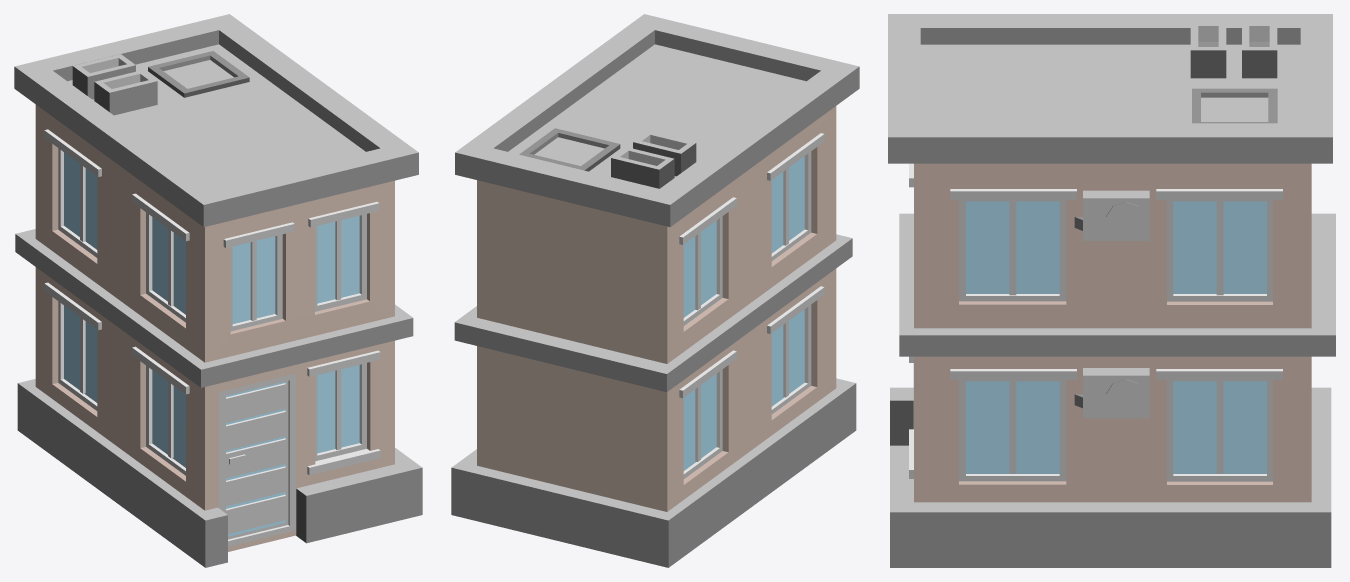
Rendered from house_small_1_007.glb.
The picture shows the model from 3 angles, left to right: view 1: azimuth 30°, elevation 25°; view 2: azimuth 150°, elevation 25°; view 3: azimuth 270°, elevation 25°; orthographic projection. The views are drawn at different scales.
Parts seen in each view (by area): view 1: house_small_1_007; view 2: house_small_1_007; view 3: house_small_1_007.
Part boxes in pixels (left/top/right/bottom): house_small_1_007: left=14, top=14, right=422, bottom=567; house_small_1_007: left=451, top=14, right=859, bottom=567; house_small_1_007: left=888, top=14, right=1335, bottom=567.
Size of the model in its own units: 3.69 by 5.99 by 5.54.
1 material, 1 textured.
